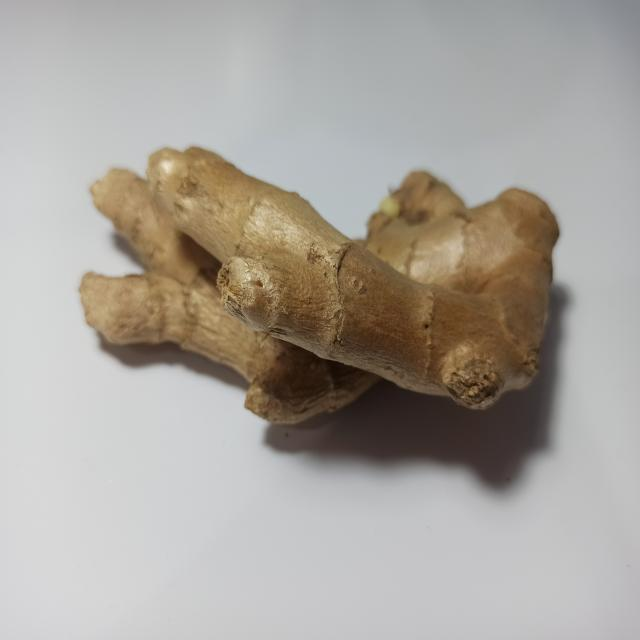ginger: (82, 146, 562, 424)
